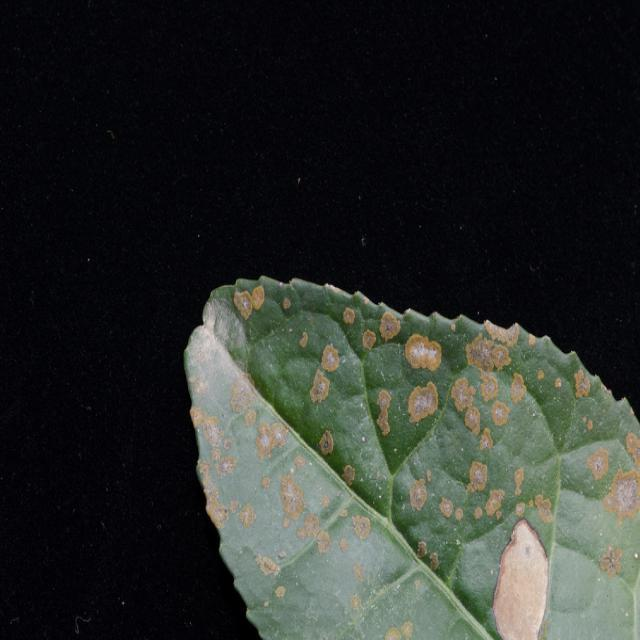Tea algae leaf spot: (204, 289, 559, 557)
